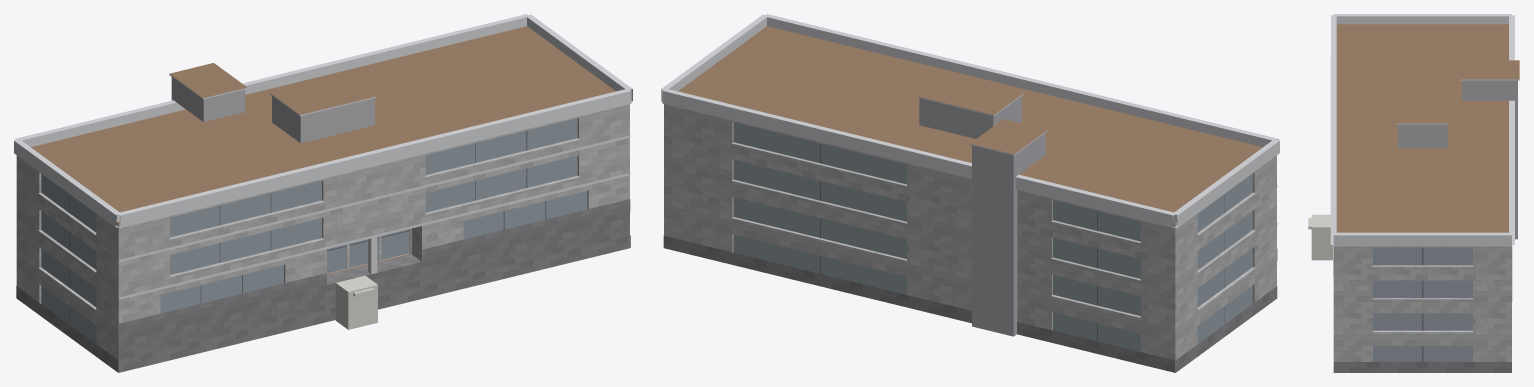
3 renders of one model, left to right at view 1: azimuth 30°, elevation 25°; view 2: azimuth 150°, elevation 25°; view 3: azimuth 270°, elevation 25°, orthographic. The views are drawn at different scales.
Visible parts, largest first — view 1: b126__roof, b126__wall, b126__base, b126__glass, b126__trim, b126__wall2, b126__entranceStair, b126__frame; view 2: b126__wall, b126__roof, b126__glass, b126__trim, b126__wall2, b126__base; view 3: b126__roof, b126__wall, b126__trim, b126__glass, b126__wall2, b126__base, b126__entranceStair.
Part boxes in pixels (box(x1,y1,x2,y2)): b126__roof: box(31, 26, 628, 372); b126__wall: box(16, 104, 629, 372); b126__base: box(16, 199, 630, 372); b126__glass: box(41, 118, 587, 343); b126__trim: box(14, 14, 632, 310); b126__wall2: box(171, 77, 374, 143); b126__entranceStair: box(335, 275, 377, 329); b126__frame: box(69, 130, 546, 324); b126__wall: box(664, 104, 1276, 372); b126__roof: box(678, 26, 1262, 223); b126__glass: box(733, 122, 1252, 351); b126__trim: box(661, 14, 1279, 318); b126__wall2: box(919, 96, 1045, 336); b126__base: box(663, 235, 1277, 372); b126__roof: box(1336, 24, 1519, 232); b126__wall: box(1333, 246, 1511, 361); b126__trim: box(1330, 14, 1519, 332); b126__glass: box(1373, 247, 1472, 361); b126__wall2: box(1398, 80, 1517, 239); b126__base: box(1333, 362, 1511, 372); b126__entranceStair: box(1308, 214, 1332, 260).
Bounding box in the file's own units: 52.19 × 17.76 × 21.07.
Materials: 10 (2 with a texture image).
